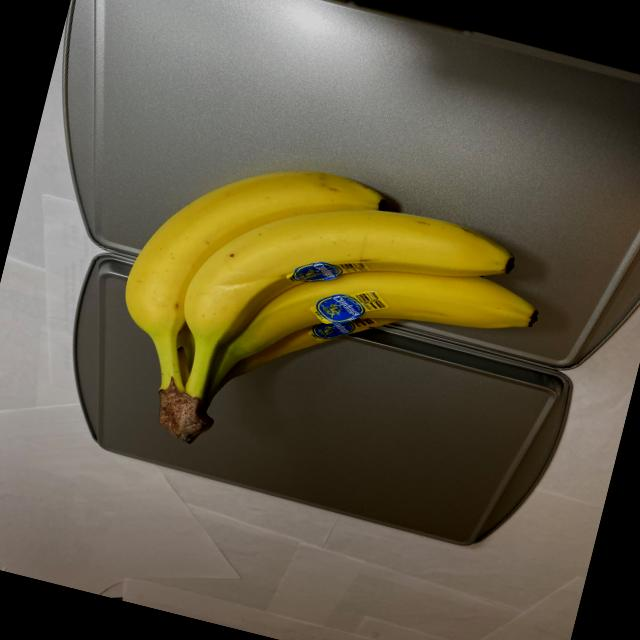banana: (87, 121, 573, 524)
